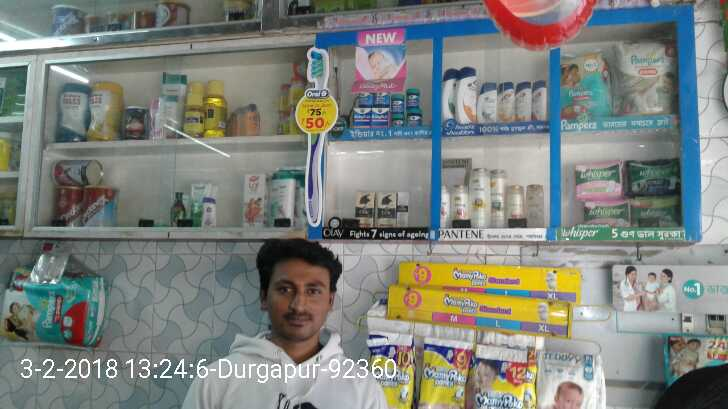vicks: (351, 83, 423, 129)
